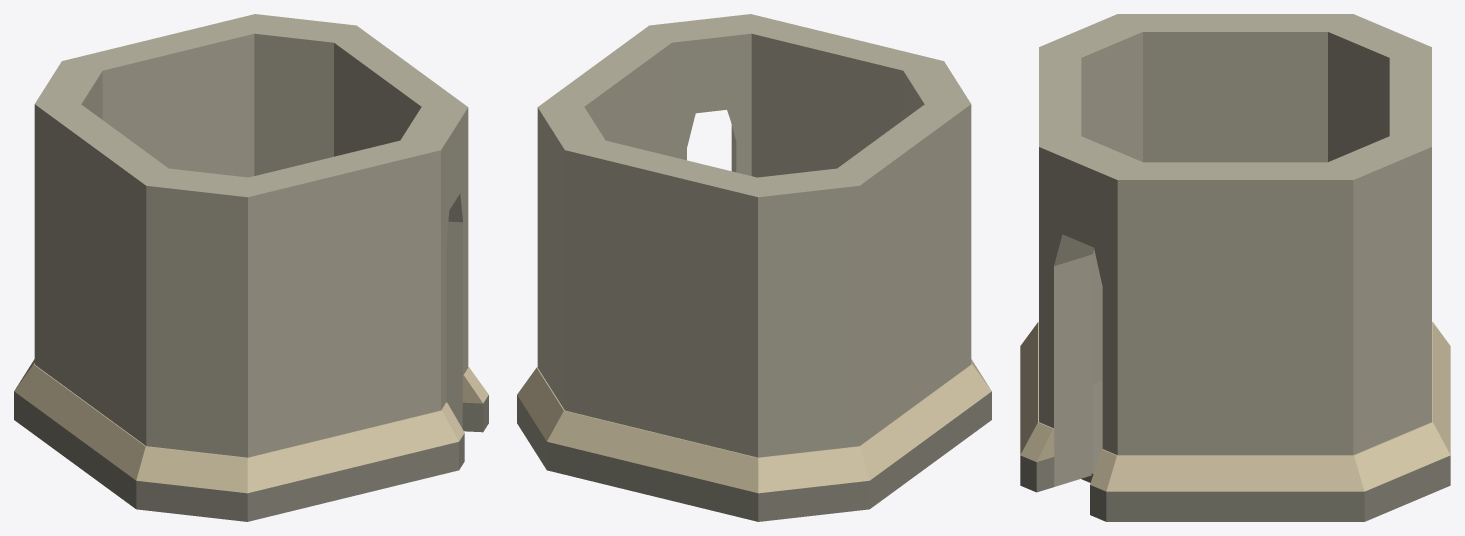
Rendered from corner_tower_footing.glb.
The picture shows the model from 3 angles, left to right: view 1: azimuth 30°, elevation 25°; view 2: azimuth 150°, elevation 25°; view 3: azimuth 270°, elevation 25°; orthographic projection. The views are drawn at different scales.
Visible parts, largest first — view 1: Corner tower footing; view 2: Corner tower footing; view 3: Corner tower footing.
Part boxes in pixels (x1,y1,x2,y2): Corner tower footing: [14, 14, 488, 521]; Corner tower footing: [517, 14, 991, 521]; Corner tower footing: [1020, 14, 1450, 521].
Bounding box in the file's own units: 2.19 × 1.92 × 2.19.
